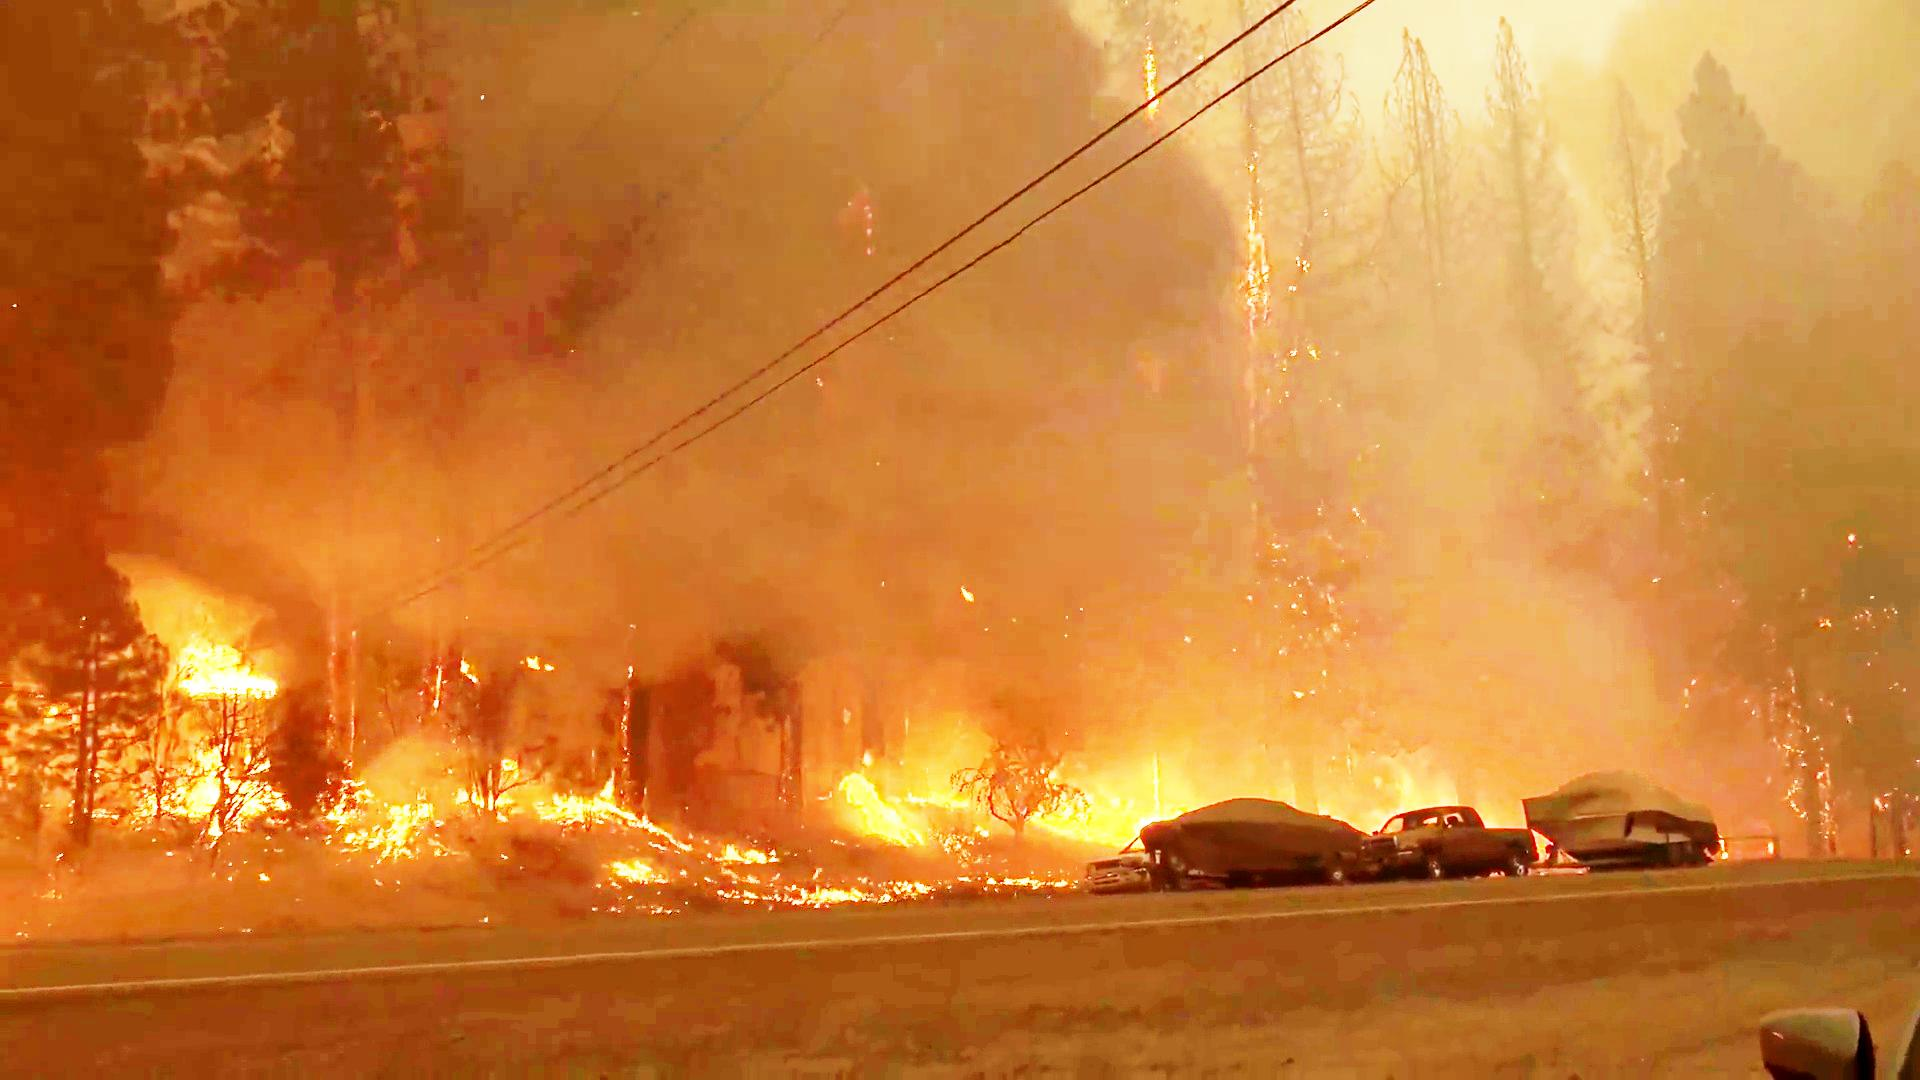fire: (1033, 771, 1169, 850), (171, 631, 285, 698), (836, 763, 915, 850)
smoke: (381, 0, 1066, 543)
